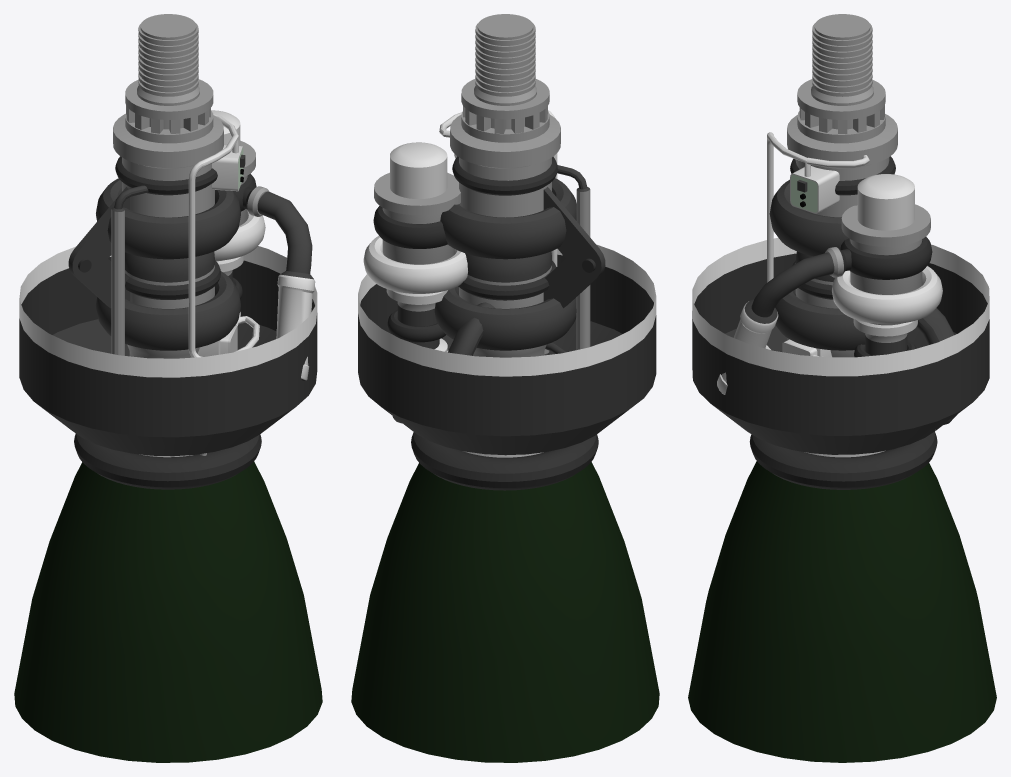
The model's file is rsea.glb.
3 renders of one model, left to right at view 1: azimuth 30°, elevation 25°; view 2: azimuth 150°, elevation 25°; view 3: azimuth 270°, elevation 25°, orthographic.
Visible parts, largest first — view 1: Raptor 2 Engine; view 2: Raptor 2 Engine; view 3: Raptor 2 Engine.
Boxes of the visible parts, <box> form: Raptor 2 Engine: <box>14,14,322,762</box>; Raptor 2 Engine: <box>351,14,659,762</box>; Raptor 2 Engine: <box>688,14,996,762</box>.
Bounding box in the file's own units: 6.37 × 15.29 × 6.37.
